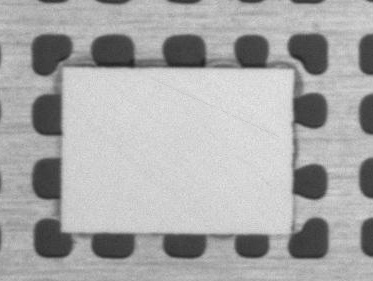DIE_CRACK: (200, 59, 369, 102)
